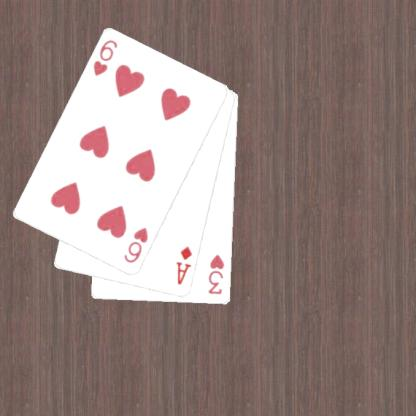3H: (206, 252, 226, 296)
6H: (90, 37, 119, 78), (121, 225, 150, 265)
AD: (174, 244, 194, 286)
